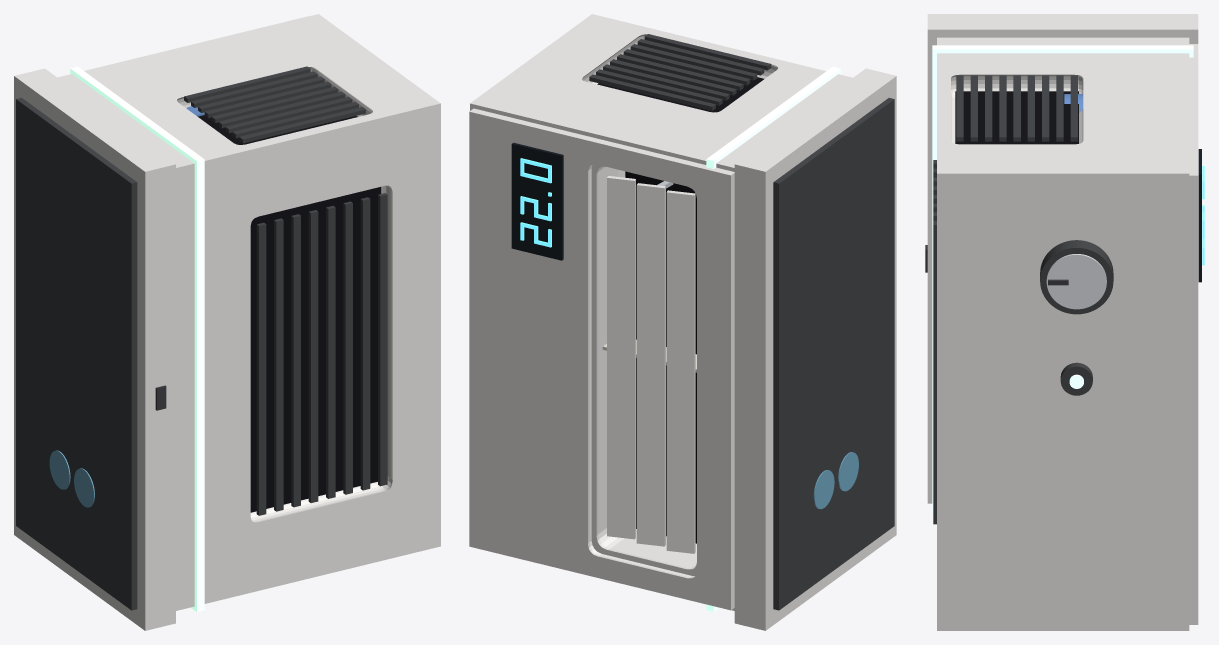
The model's file is assembly_a.glb.
The picture shows the model from 3 angles, left to right: view 1: azimuth 30°, elevation 25°; view 2: azimuth 150°, elevation 25°; view 3: azimuth 270°, elevation 25°; orthographic projection. The views are drawn at different scales.
Parts seen in each view (by area): view 1: Body, SkidPad, Base, IntakeGrille, IntakeCavity, HotVent_R, Band, M2_Cell_B, M2_Cell_A; view 2: FrontPanel, SkidPad, Body, Base, Louver_0, Louver_1, Louver_2, HotVent_R, DisplayGlass, OutletCavity, Band, Display (+3 smaller); view 3: Body, Base, FrontPanel, HotVent_R, Knob, HotVentCavity_R, Band, IntakeGrille, CoolKey, DisplayGlass.
Part boxes in pixels (x1=…): Body: x1=58, y1=14, x2=440, y2=610; SkidPad: x1=16, y1=97, x2=137, y2=610; Base: x1=14, y1=68, x2=175, y2=630; IntakeGrille: x1=256, y1=193, x2=387, y2=515; IntakeCavity: x1=250, y1=187, x2=381, y2=512; HotVent_R: x1=184, y1=66, x2=365, y2=143; Band: x1=70, y1=66, x2=204, y2=611; M2_Cell_B: x1=49, y1=450, x2=70, y2=489; M2_Cell_A: x1=74, y1=468, x2=94, y2=507; FrontPanel: x1=469, y1=108, x2=734, y2=610; SkidPad: x1=773, y1=98, x2=894, y2=610; Body: x1=470, y1=14, x2=852, y2=610; Base: x1=734, y1=68, x2=896, y2=630; Louver_0: x1=666, y1=190, x2=695, y2=553; Louver_1: x1=636, y1=183, x2=665, y2=546; Louver_2: x1=607, y1=176, x2=635, y2=539; HotVent_R: x1=589, y1=34, x2=771, y2=110; DisplayGlass: x1=511, y1=142, x2=563, y2=260; OutletCavity: x1=625, y1=171, x2=696, y2=543; Band: x1=706, y1=66, x2=840, y2=611; Display: x1=520, y1=158, x2=551, y2=247; Body: x1=937, y1=37, x2=1189, y2=630; Base: x1=927, y1=14, x2=1198, y2=503; FrontPanel: x1=1189, y1=44, x2=1198, y2=624; HotVent_R: x1=956, y1=75, x2=1077, y2=141; Knob: x1=1040, y1=240, x2=1113, y2=314; HotVentCavity_R: x1=955, y1=91, x2=1078, y2=144; Band: x1=932, y1=45, x2=1193, y2=514; IntakeGrille: x1=933, y1=160, x2=936, y2=524; CoolKey: x1=1060, y1=362, x2=1092, y2=395; DisplayGlass: x1=1198, y1=149, x2=1201, y2=282.
Size of the model in its own units: 0.1696 by 0.228 by 0.1217.
